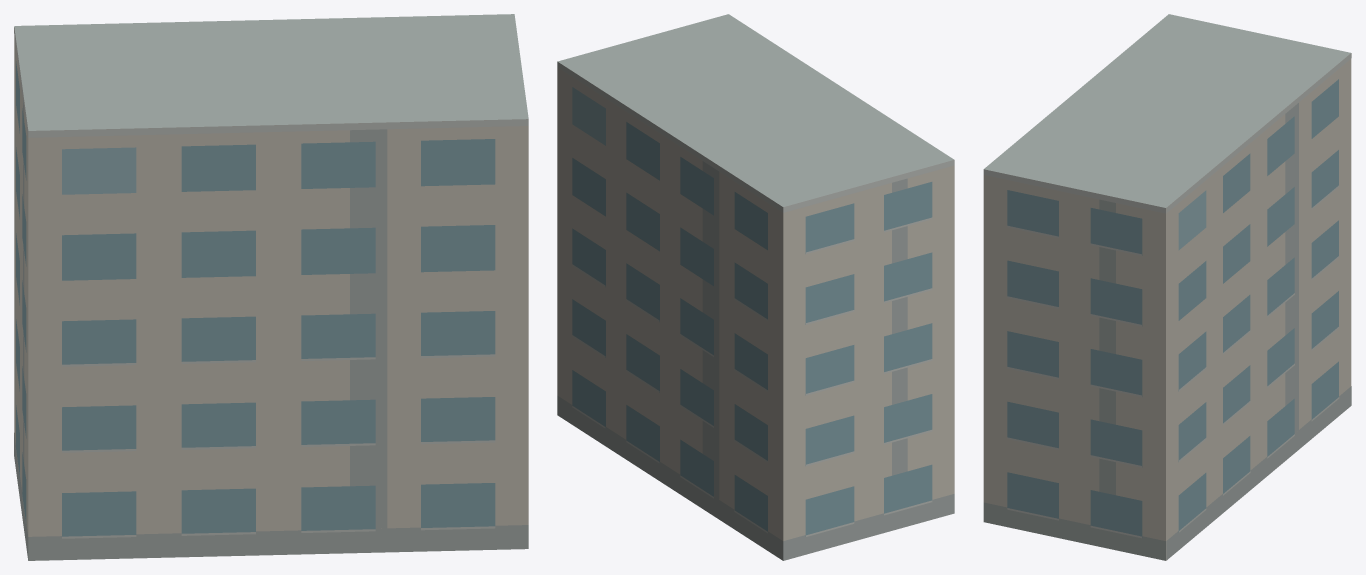
Rendered from residential-10d3004f-b5f0-470d-a7d6-ff4fff54f30d.glb.
3 views of the same model, side by side, from view 1: azimuth 30°, elevation 25°; view 2: azimuth 150°, elevation 25°; view 3: azimuth 270°, elevation 25° (orthographic). The views are drawn at different scales.
Visible parts, largest first — view 1: residential-10d3004f-b5f0-470d-a7d6-ff4fff54f30d.tmp; view 2: residential-10d3004f-b5f0-470d-a7d6-ff4fff54f30d.tmp; view 3: residential-10d3004f-b5f0-470d-a7d6-ff4fff54f30d.tmp.
Part boxes in pixels (left/top/right/bottom): residential-10d3004f-b5f0-470d-a7d6-ff4fff54f30d.tmp: left=14, top=14, right=528, bottom=560; residential-10d3004f-b5f0-470d-a7d6-ff4fff54f30d.tmp: left=557, top=14, right=954, bottom=560; residential-10d3004f-b5f0-470d-a7d6-ff4fff54f30d.tmp: left=983, top=14, right=1351, bottom=560.
Bounding box in the file's own units: 18 × 15.25 × 14.42.
